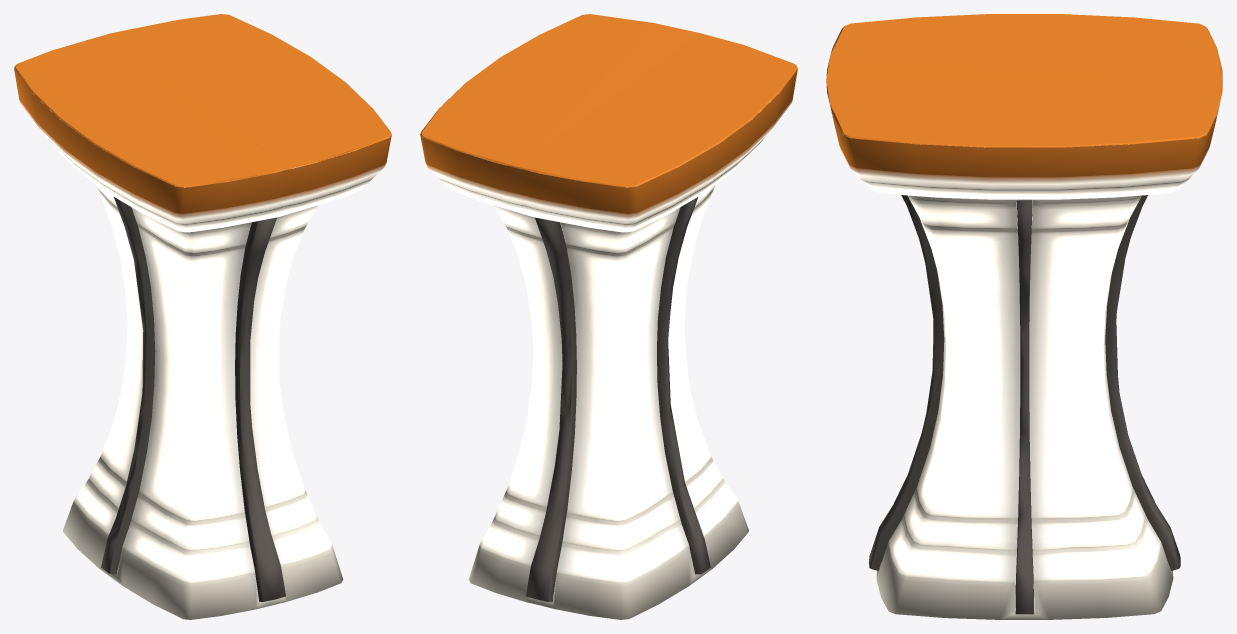
The model's file is bar_table_3_c.glb.
The picture shows the model from 3 angles, left to right: view 1: azimuth 30°, elevation 25°; view 2: azimuth 150°, elevation 25°; view 3: azimuth 270°, elevation 25°; orthographic projection. The views are drawn at different scales.
Visible parts, largest first — view 1: bar_table_3; view 2: bar_table_3; view 3: bar_table_3.
Part boxes in pixels (x1,y1,x2,y2): bar_table_3: (14,14,391,619); bar_table_3: (420,14,797,619); bar_table_3: (826,14,1222,619).
Size of the model in its own units: 0.6371 by 1.1 by 0.8015.
1 material, 1 textured.
